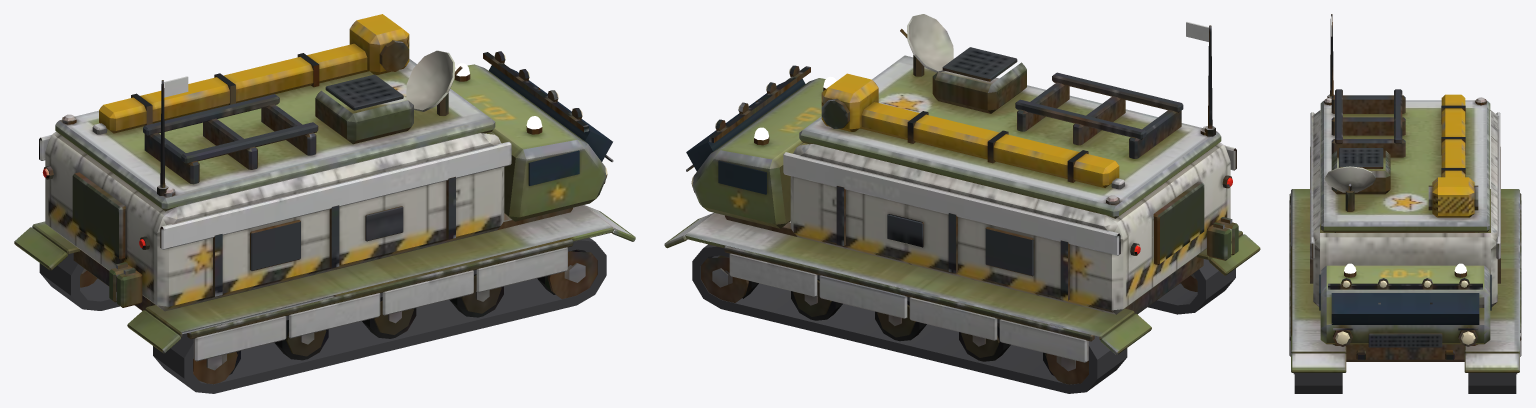
Rendered from mcv.soviet.glb.
3 views of the same model, side by side, from view 1: azimuth 30°, elevation 25°; view 2: azimuth 150°, elevation 25°; view 3: azimuth 270°, elevation 25° (orthographic). The views are drawn at different scales.
Parts seen in each view (by area): view 1: root_mesh, dish_mesh; view 2: root_mesh, dish_mesh; view 3: root_mesh, dish_mesh.
Part boxes in pixels (left/top/right/bottom): root_mesh: left=14, top=14, right=635, bottom=393; dish_mesh: left=406, top=50, right=462, bottom=115; root_mesh: left=664, top=22, right=1260, bottom=393; dish_mesh: left=900, top=14, right=953, bottom=76; root_mesh: left=1289, top=14, right=1521, bottom=393; dish_mesh: left=1324, top=166, right=1375, bottom=211.
Size of the model in its own units: 1.17 by 0.693 by 0.63.
3 materials, 1 textured.
